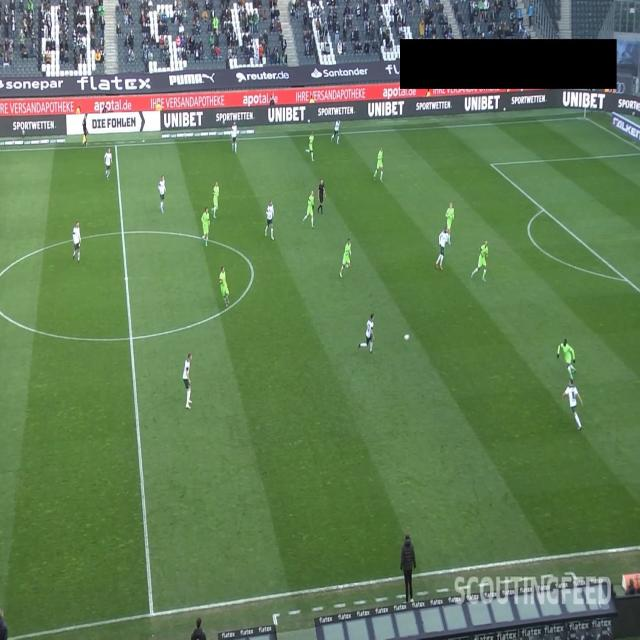ball: (404, 333, 411, 341)
